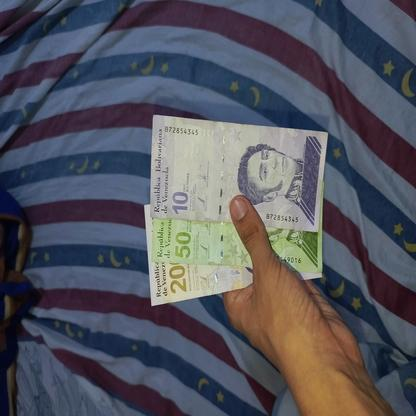fifty-front-vef: (150, 218, 322, 274)
ten-front-vef: (149, 114, 328, 231)
two_hundred-front-vef: (146, 258, 322, 307)
